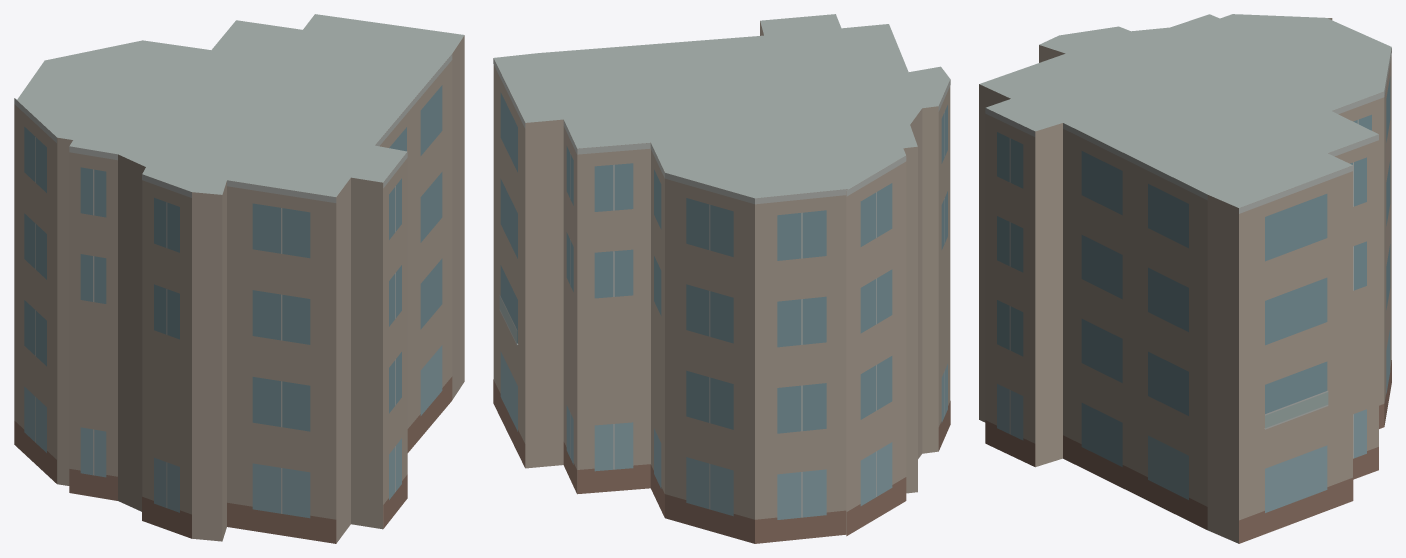
Rendered from survey-upis-32774419.glb.
3 views of the same model, side by side, from view 1: azimuth 30°, elevation 25°; view 2: azimuth 150°, elevation 25°; view 3: azimuth 270°, elevation 25° (orthographic). The views are drawn at different scales.
Parts seen in each view (by area): view 1: survey-upis-32774419.tmp; view 2: survey-upis-32774419.tmp; view 3: survey-upis-32774419.tmp.
Boxes of the visible parts, x1,y1,x2,y2 form: survey-upis-32774419.tmp: (14,14,464,543); survey-upis-32774419.tmp: (493,14,950,543); survey-upis-32774419.tmp: (979,14,1391,543).
Bounding box in the file's own units: 17.48 × 14.09 × 15.7.
